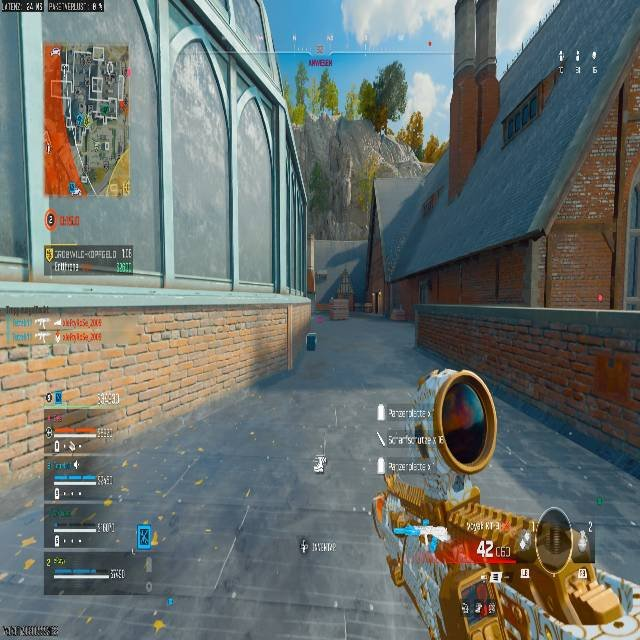head: (535, 507, 574, 570)
player: (490, 506, 639, 638)
